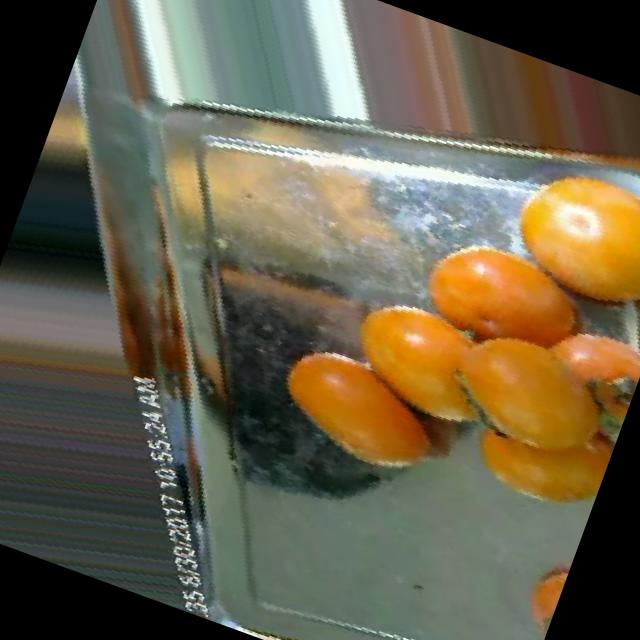Fruit: (238, 316, 476, 514), (500, 541, 574, 640)
